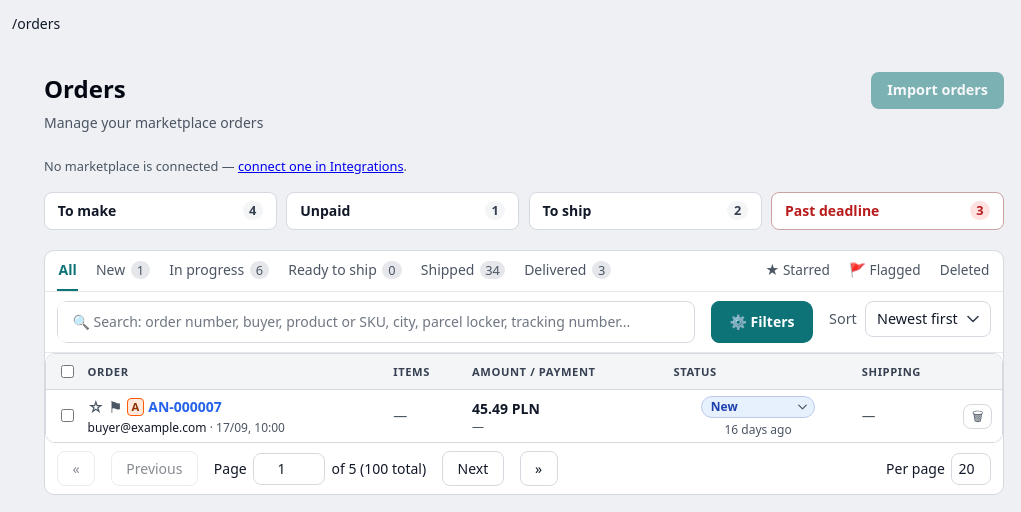
Test: going to a page of the list › goes straight to the page typed
Expected: the text "of 5 (100 total)" is shown, [332, 459, 426, 479]
Replace the text in the number field named "Go to page" with "4": [289, 469] box [253, 453, 325, 485]
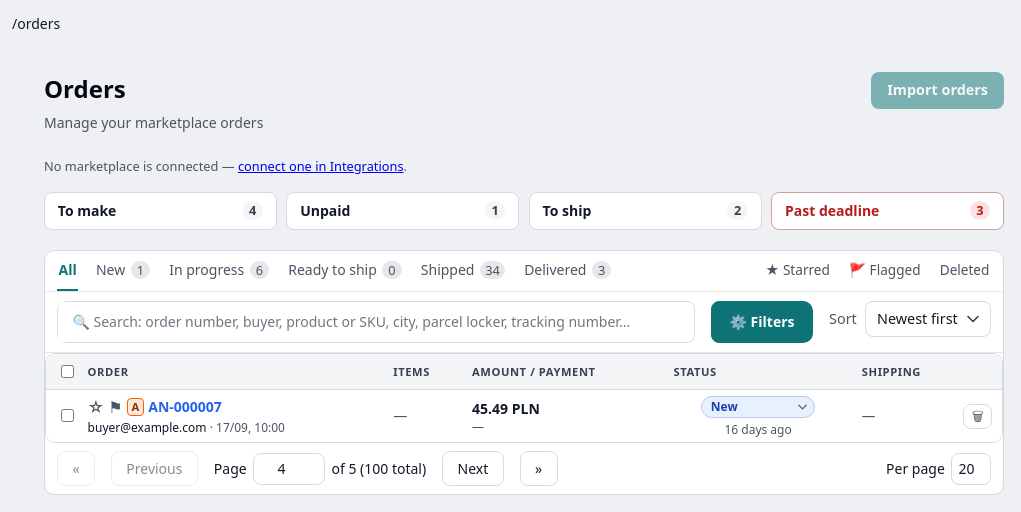
Submit the form named "Go to page", box [214, 453, 426, 485]
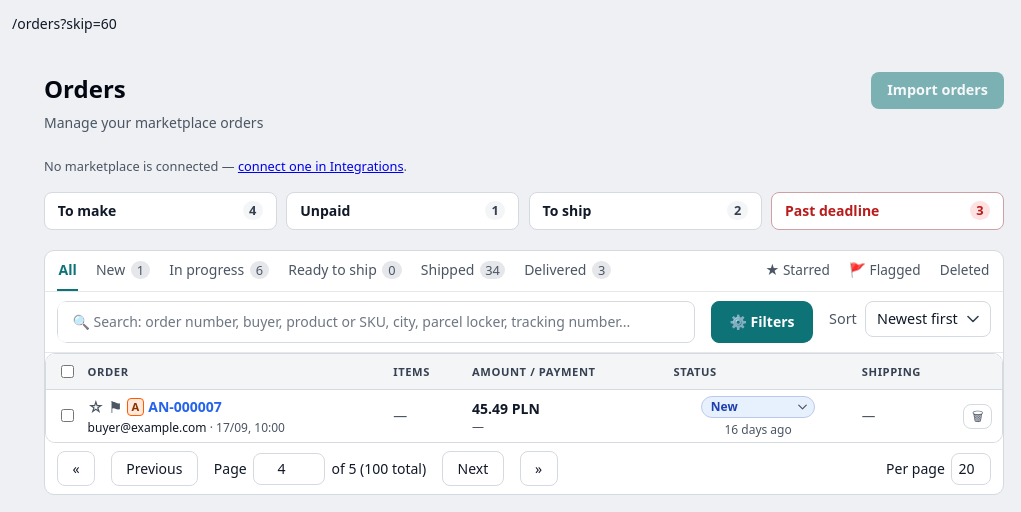
Expected: the text with test id "where" shows "skip=60", [12, 14, 117, 33]
